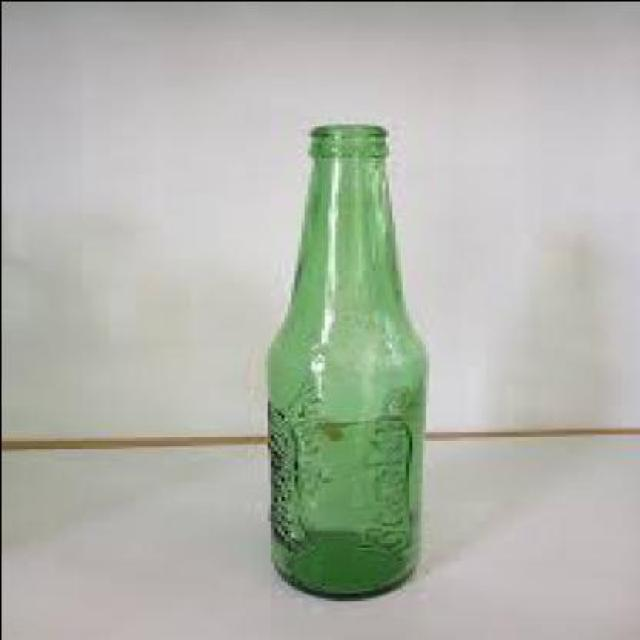glass: (263, 123, 425, 600)
